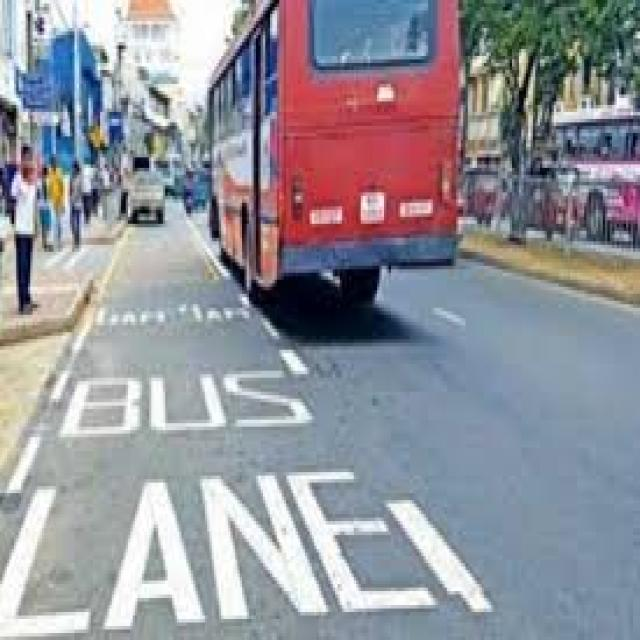bus: (209, 0, 458, 304), (549, 112, 638, 245)
person: (12, 147, 35, 315), (47, 161, 63, 248), (70, 161, 81, 248), (40, 203, 47, 252), (40, 168, 47, 196)
three wheeler: (465, 171, 500, 224)
